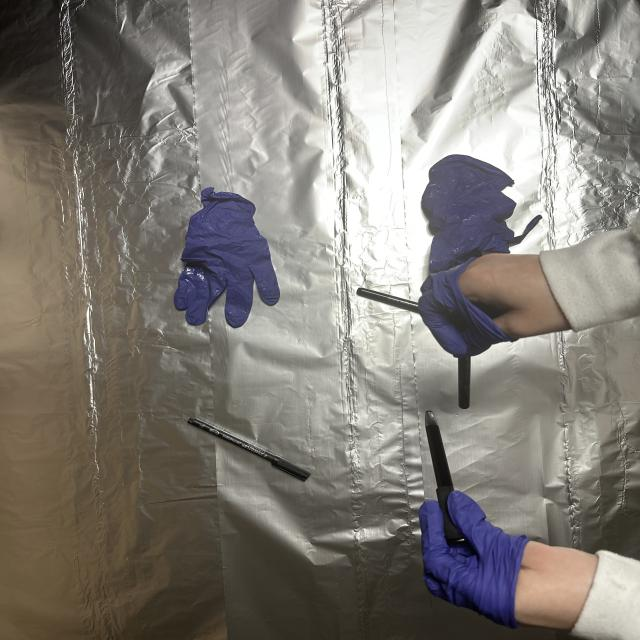glove_partial: (418, 489, 603, 640), (417, 250, 571, 356)
